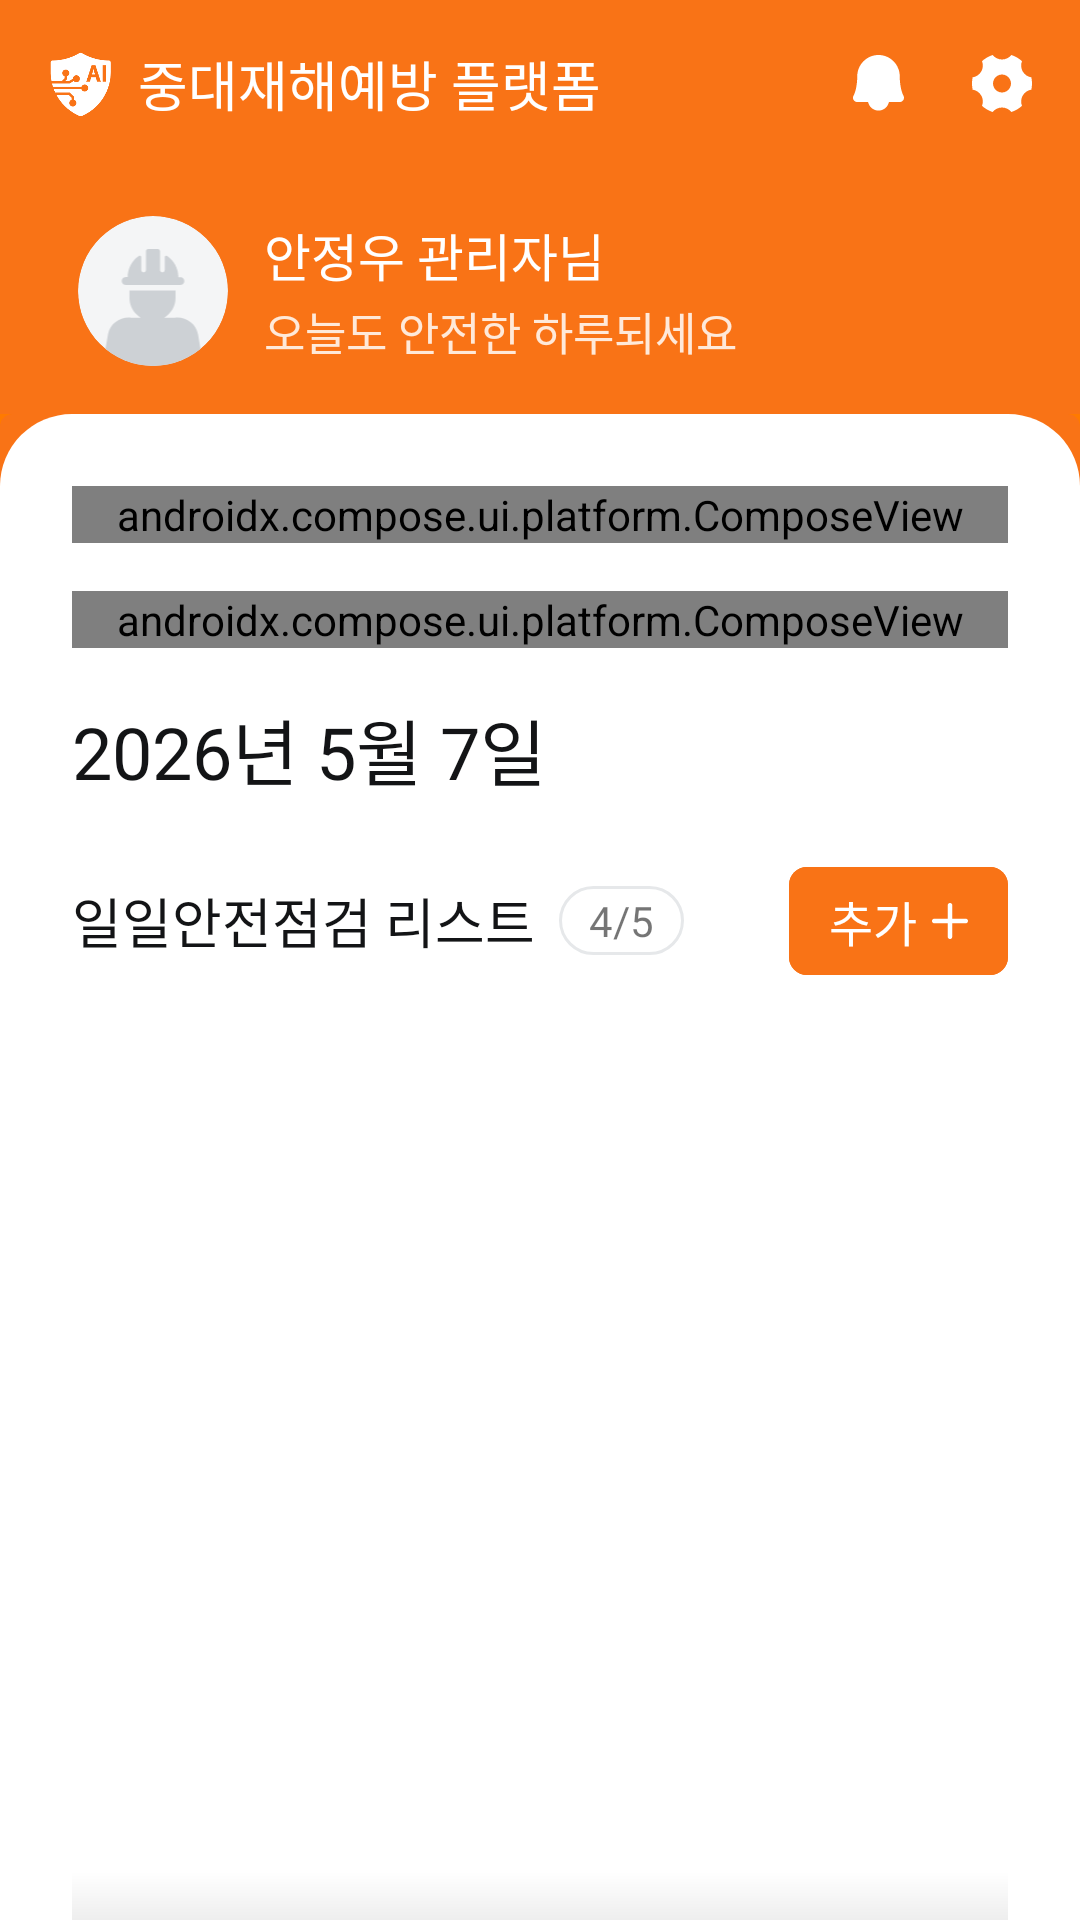

Locate icon controls on the screen. Image size 1080*1920, boxes as [left=x1, top=y1, right=x2, bottom=y2].
profile: [left=78, top=216, right=228, bottom=366]
설정: [left=972, top=55, right=1032, bottom=112]
알림: [left=853, top=55, right=904, bottom=111]
